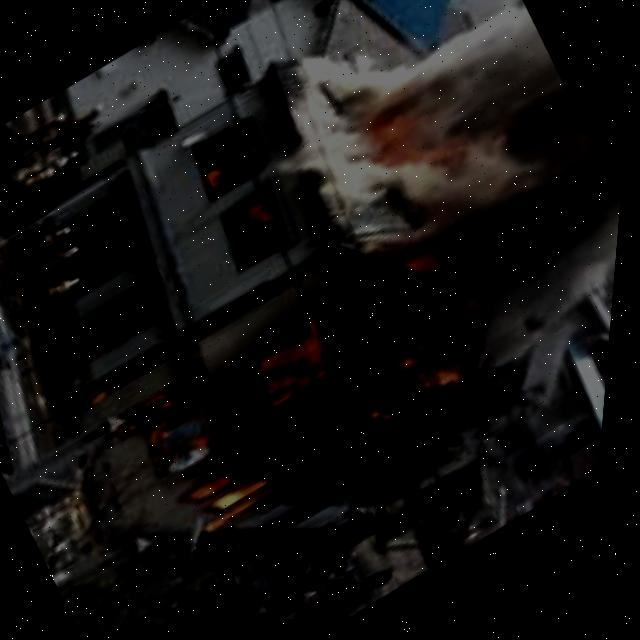Fire: (73, 241, 439, 575), (217, 186, 304, 270)
Smoke: (243, 0, 640, 427)
